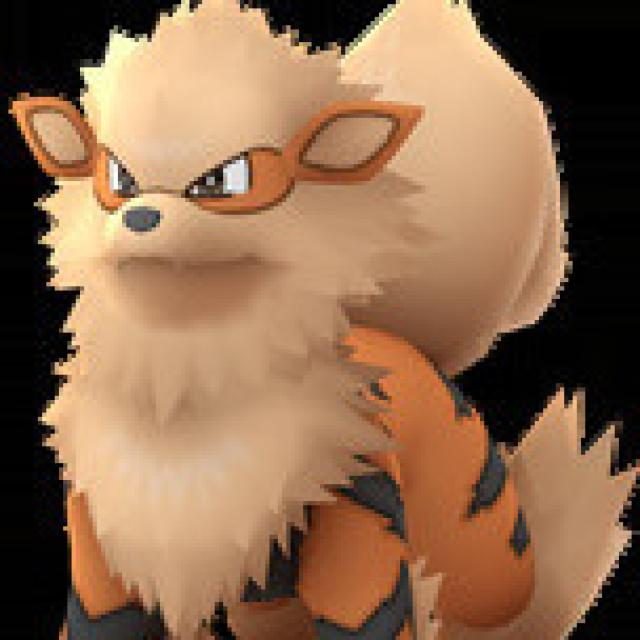Arcanine: (2, 8, 530, 640)
